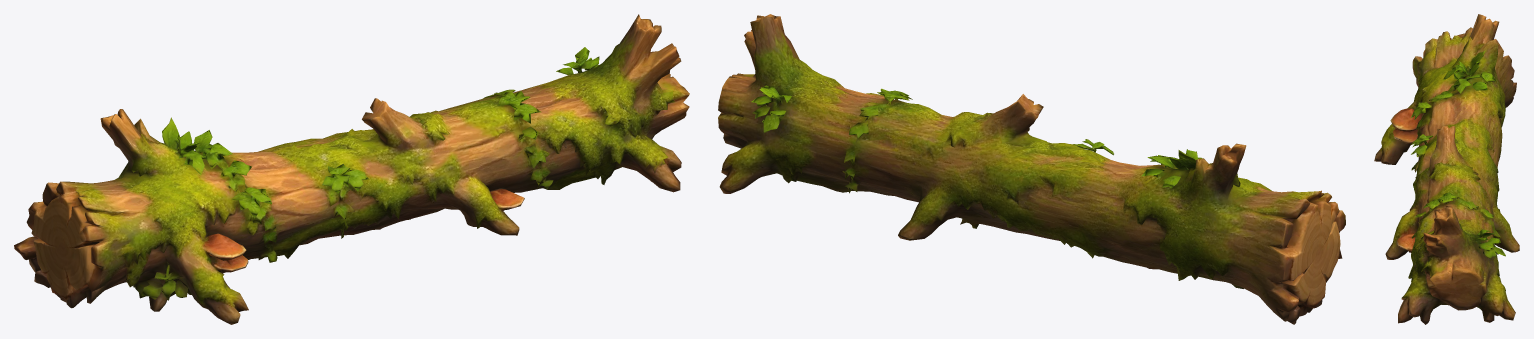
The model's file is fallen log 3d model.glb.
The picture shows the model from 3 angles, left to right: view 1: azimuth 30°, elevation 25°; view 2: azimuth 150°, elevation 25°; view 3: azimuth 270°, elevation 25°; orthographic projection. The views are drawn at different scales.
Parts seen in each view (by area): view 1: tripo_node_6b4e949f-e316-4a2d-9b8e-4bd14f269ae6; view 2: tripo_node_6b4e949f-e316-4a2d-9b8e-4bd14f269ae6; view 3: tripo_node_6b4e949f-e316-4a2d-9b8e-4bd14f269ae6.
Part boxes in pixels (x1,y1,x2,y2): tripo_node_6b4e949f-e316-4a2d-9b8e-4bd14f269ae6: [14, 14, 689, 324]; tripo_node_6b4e949f-e316-4a2d-9b8e-4bd14f269ae6: [718, 14, 1345, 324]; tripo_node_6b4e949f-e316-4a2d-9b8e-4bd14f269ae6: [1374, 14, 1519, 324].
Size of the model in its own units: 1 by 0.2646 by 0.2691.
Materials: 1 (1 with a texture image).
